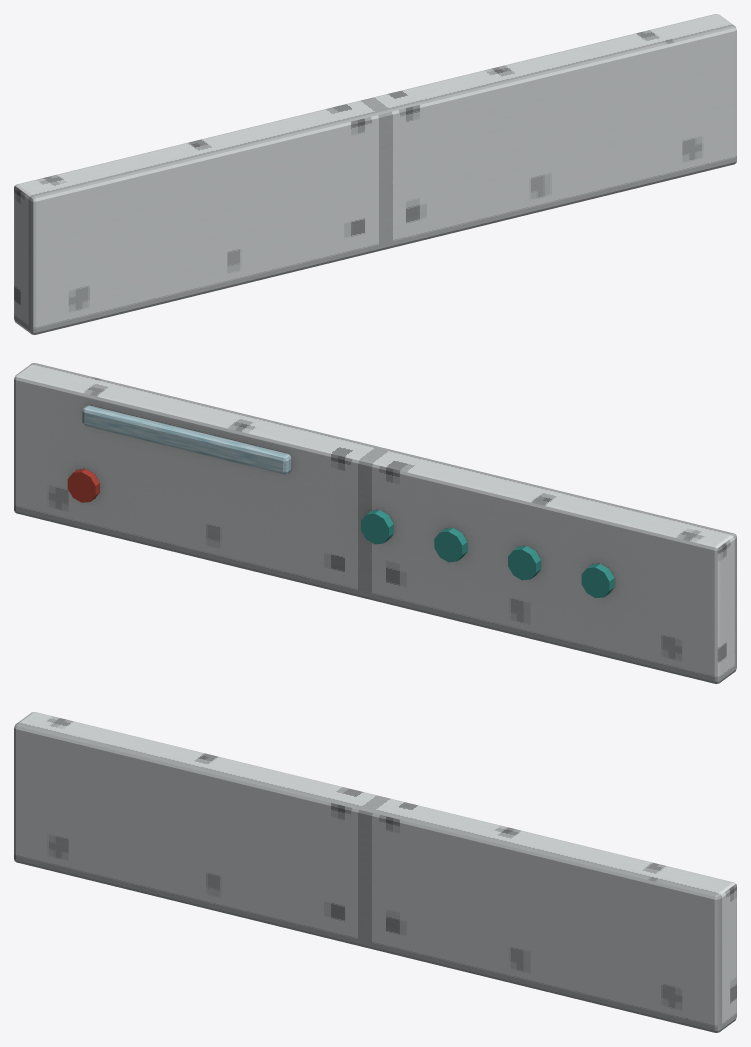
File: base_med_head_panel.glb
3 renders of one model, top to bottom at view 1: azimuth 30°, elevation 25°; view 2: azimuth 150°, elevation 25°; view 3: azimuth 330°, elevation 25°, orthographic.
Parts seen in each view (by area): view 1: base_med_head_panel; view 2: base_med_head_panel; view 3: base_med_head_panel.
Boxes of the visible parts, x1,y1,x2,y2 form: base_med_head_panel: (14, 14, 736, 334); base_med_head_panel: (14, 363, 736, 683); base_med_head_panel: (14, 712, 736, 1032).
Bounding box in the file's own units: 2.4 × 0.45 × 0.15.
4 materials, 4 textured.
